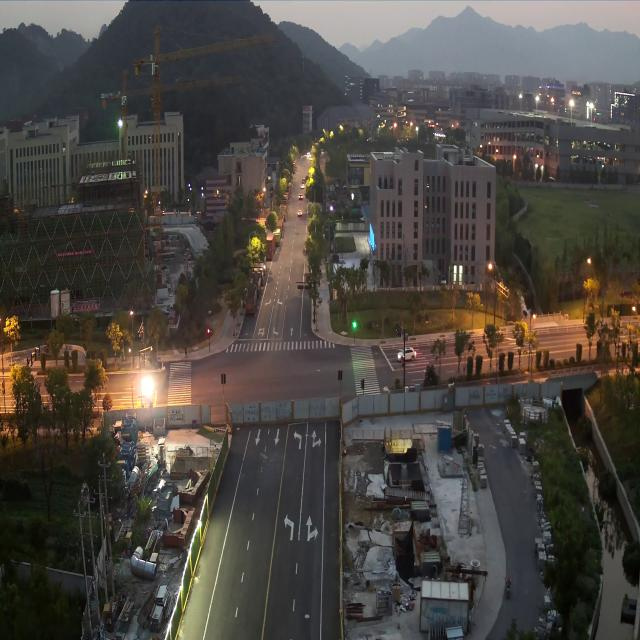drone: (138, 390, 154, 397)
